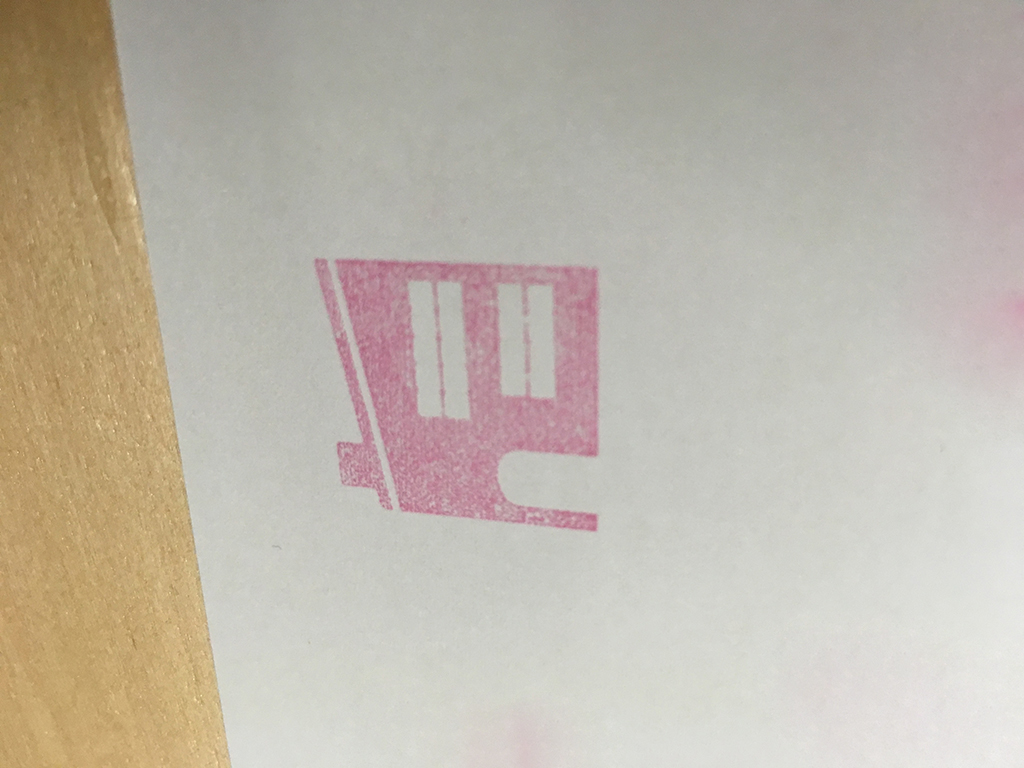house: (296, 228, 626, 562)
